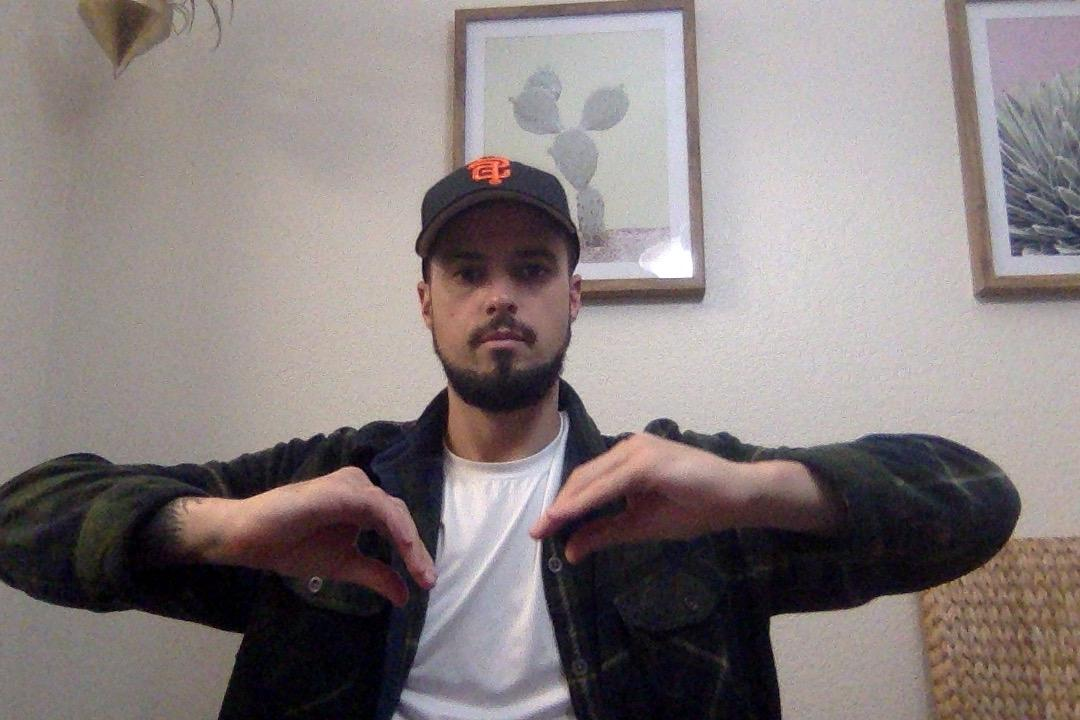Pinched-Fingers: (526, 405, 788, 575), (179, 453, 437, 608)
